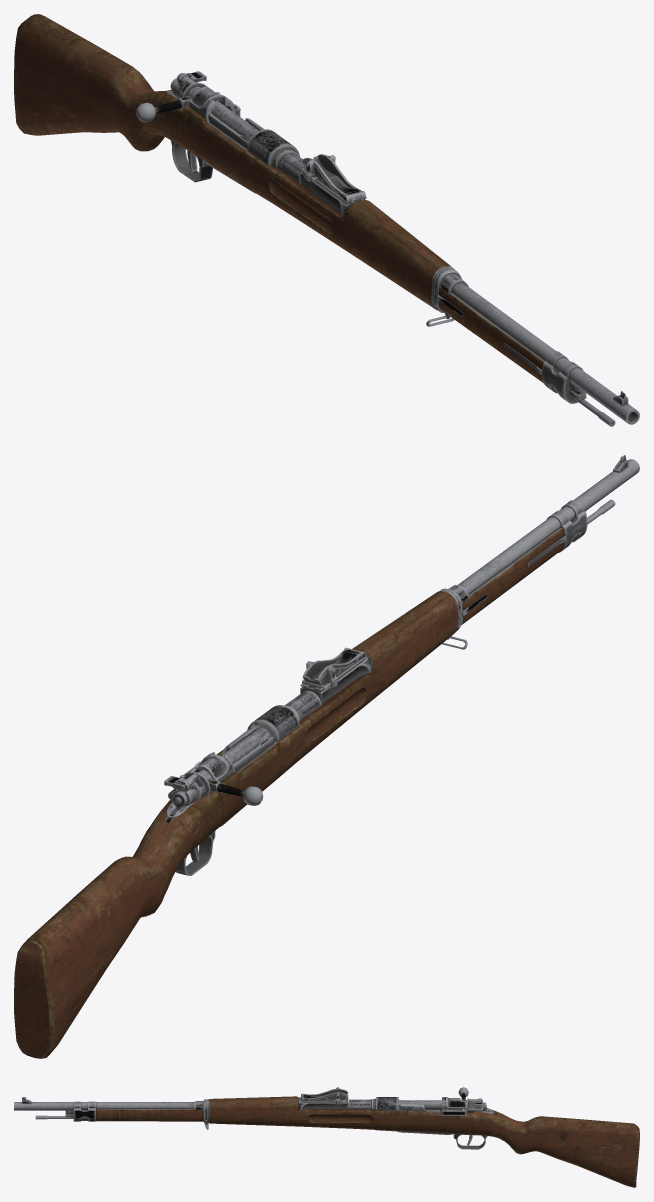
Rendered from Gewehr98_Sketchfab.fbx.
3 renders of one model, top to bottom at view 1: azimuth 30°, elevation 25°; view 2: azimuth 150°, elevation 25°; view 3: azimuth 270°, elevation 25°, orthographic. The views are drawn at different scales.
Visible parts, largest first — view 1: Gewehr98; view 2: Gewehr98; view 3: Gewehr98.
Boxes of the visible parts, left/top/right/bottom form: Gewehr98: left=14, top=14, right=639, bottom=426; Gewehr98: left=14, top=455, right=639, bottom=1058; Gewehr98: left=14, top=1087, right=639, bottom=1187.
Size of the model in its own units: 11.33 by 24.17 by 143.
